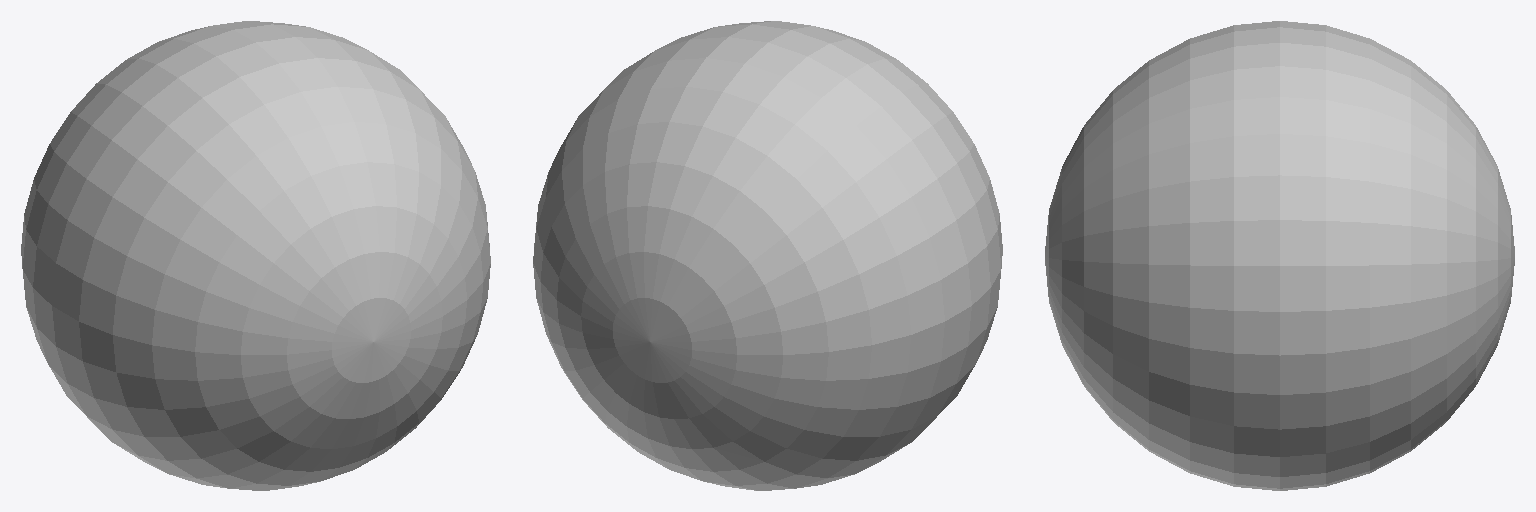
File: eye.obj
The picture shows the model from 3 angles: view 1: azimuth 30°, elevation 25°; view 2: azimuth 150°, elevation 25°; view 3: azimuth 270°, elevation 25°; orthographic projection.
Visible parts, largest first — view 1: Sphere002; view 2: Sphere002; view 3: Sphere002.
Part boxes in pixels (x1,y1,x2,y2): Sphere002: (21,21,490,490); Sphere002: (533,21,1002,490); Sphere002: (1045,21,1514,490).
Size of the model in its own units: 4.06 by 4.06 by 4.06.